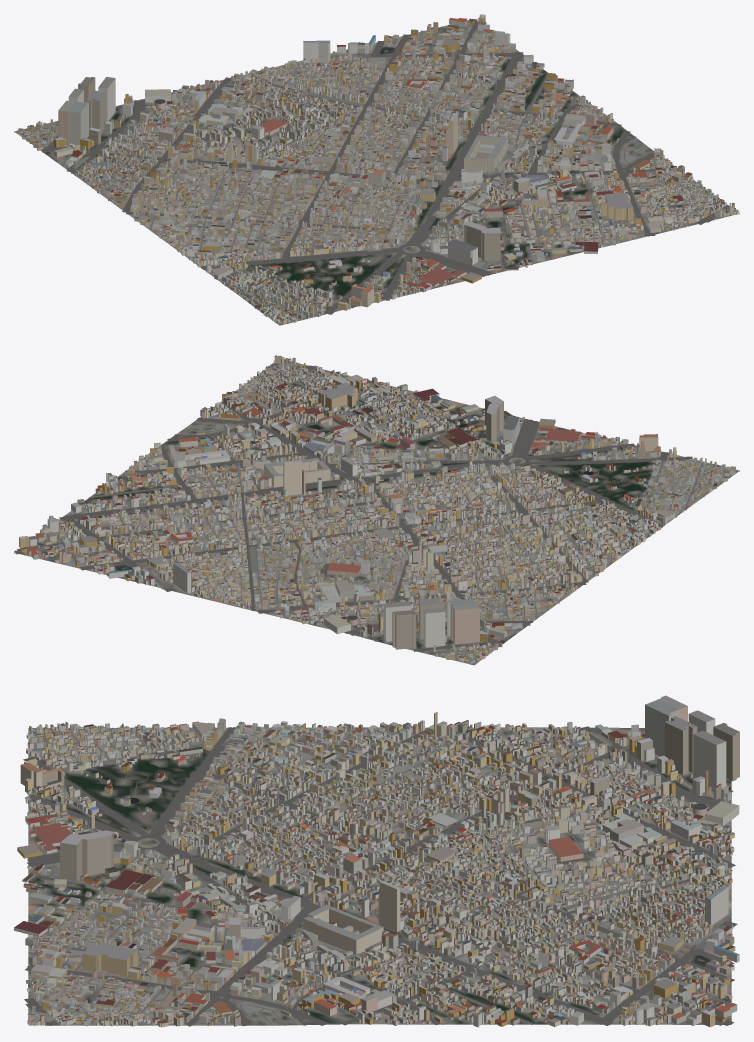
3 renders of one model, top to bottom at view 1: azimuth 30°, elevation 25°; view 2: azimuth 150°, elevation 25°; view 3: azimuth 270°, elevation 25°, orthographic. The views are drawn at different scales.
Parts seen in each view (by area): view 1: buildings, ground, roads; view 2: buildings, ground, roads; view 3: buildings, ground, roads.
Part boxes in pixels (left/top/right/bottom): buildings: left=18, top=14, right=739, bottom=324; ground: left=14, top=20, right=739, bottom=325; roads: left=15, top=18, right=729, bottom=324; buildings: left=19, top=355, right=735, bottom=663; ground: left=14, top=362, right=739, bottom=665; roads: left=14, top=362, right=737, bottom=664; buildings: left=14, top=695, right=739, bottom=1027; ground: left=28, top=727, right=731, bottom=1025; roads: left=23, top=726, right=737, bottom=1026.
Bounding box in the file's own units: 1419 × 104 × 1445.
